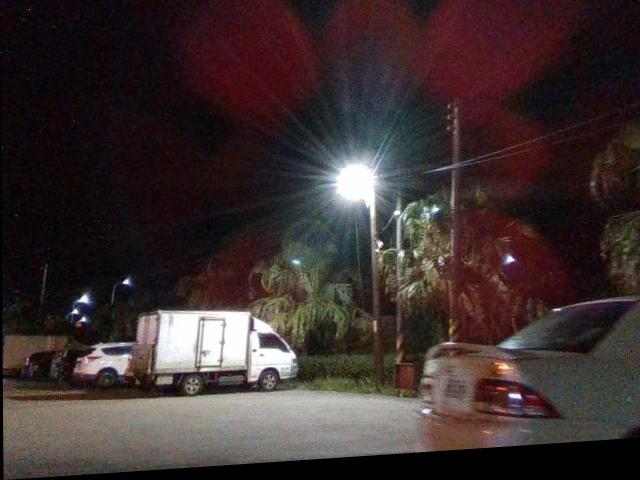pollute: (392, 368, 419, 404)
